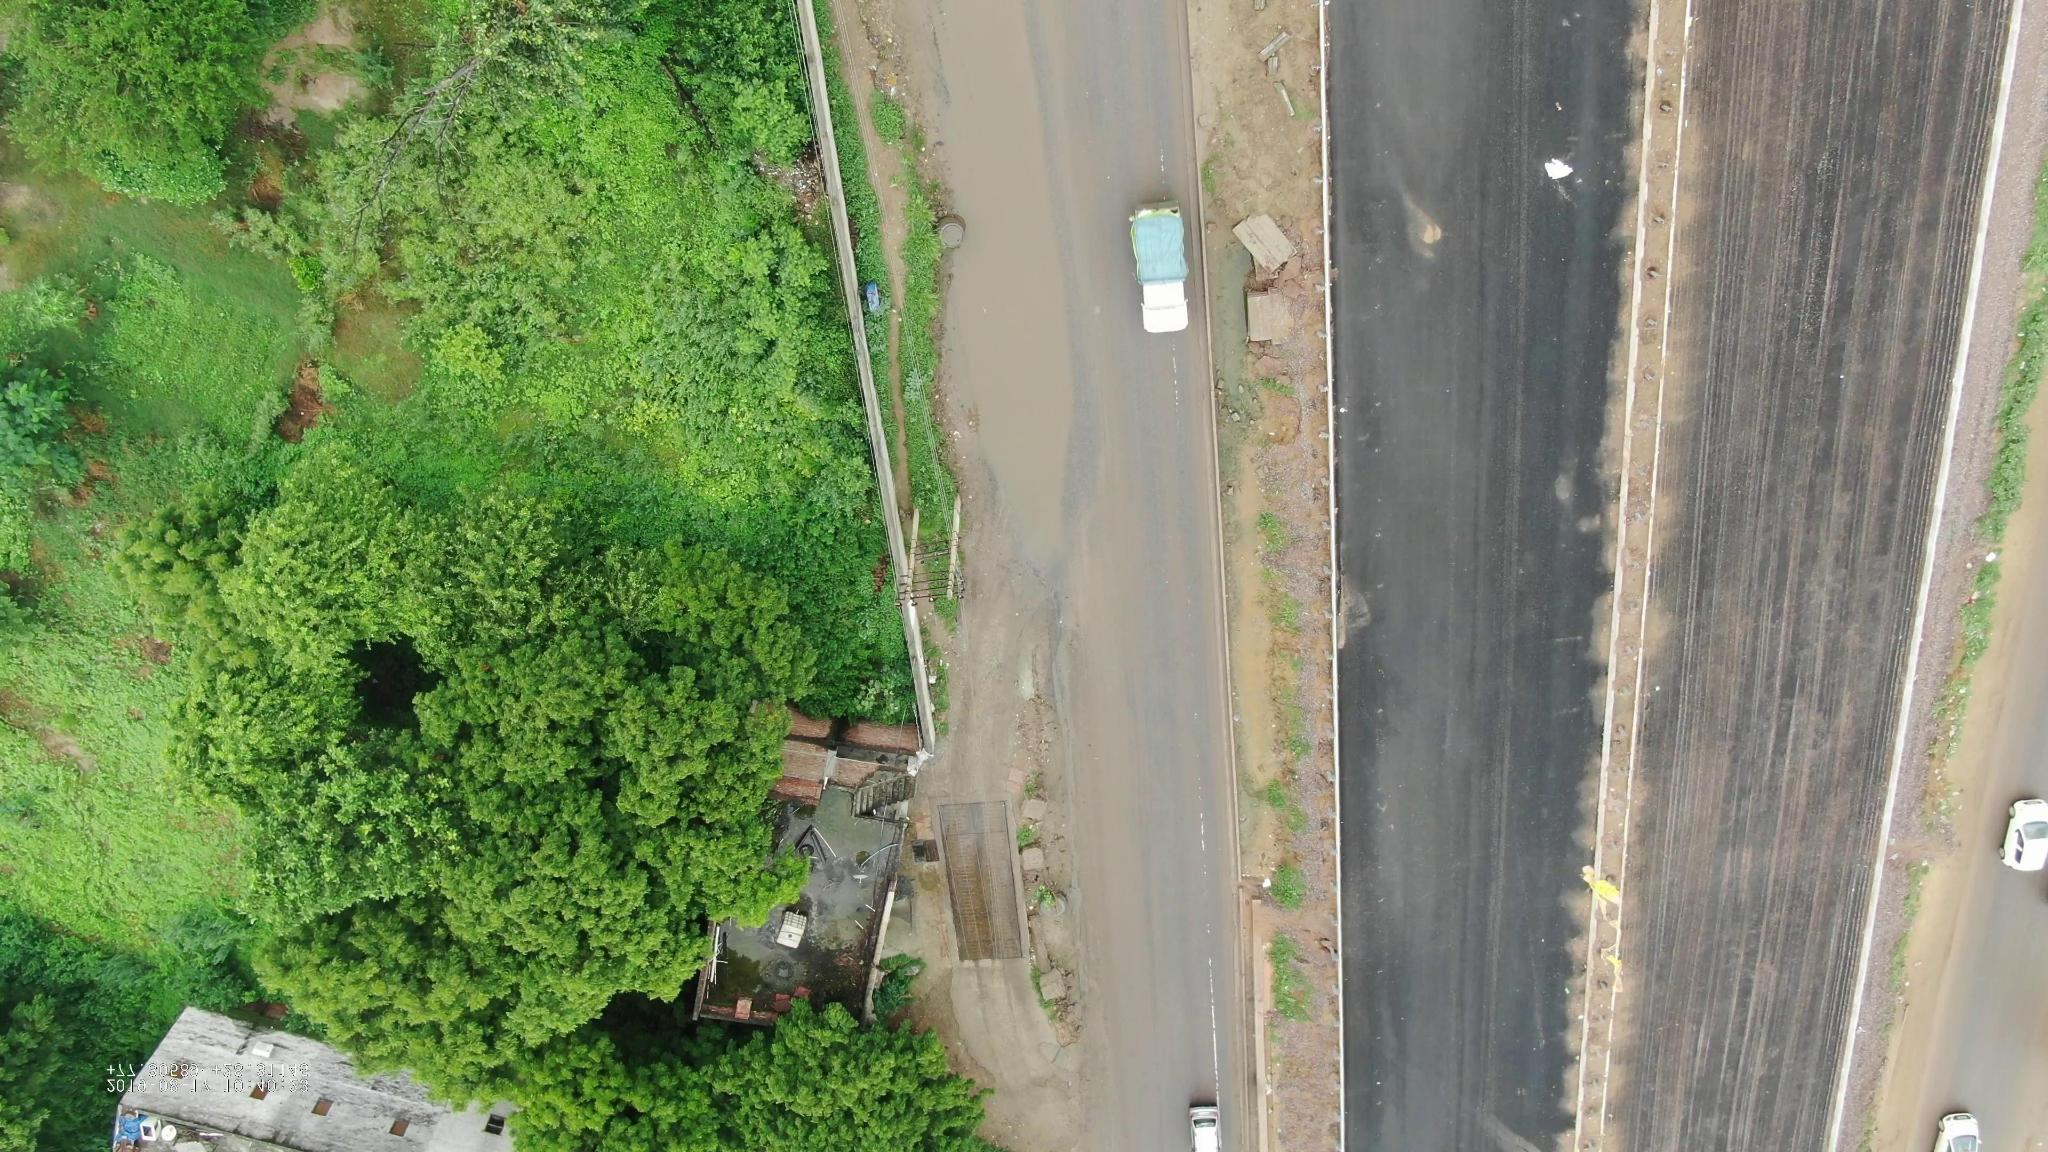Waterlogging: (911, 31, 1087, 558)
